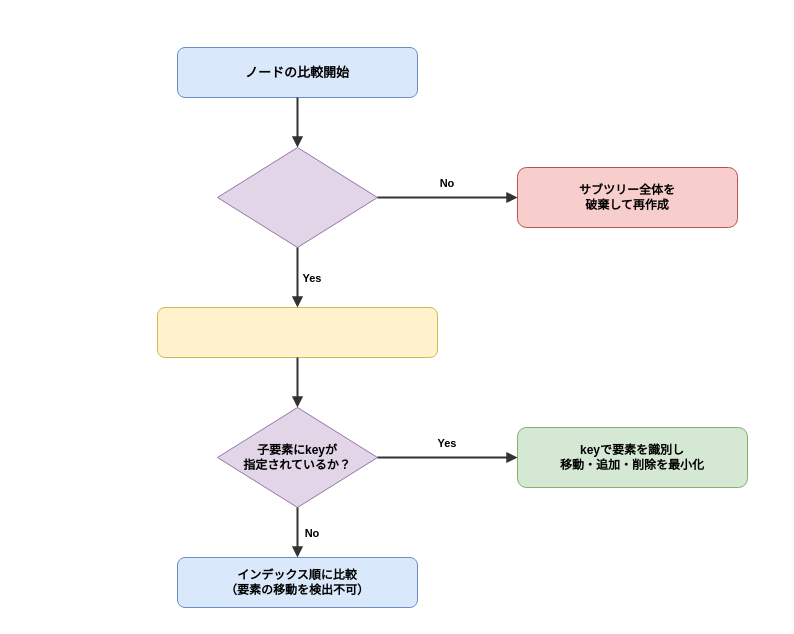
Image size: 794x634. Some labels were removed from this diagram. Here are the shapes that lost their labels. From the top down, the box of each, then its label:
(216, 146, 378, 248): 要素タイプは 同じか？
(156, 306, 438, 358): 属性の差分のみ更新し 子要素の比較へ進む
